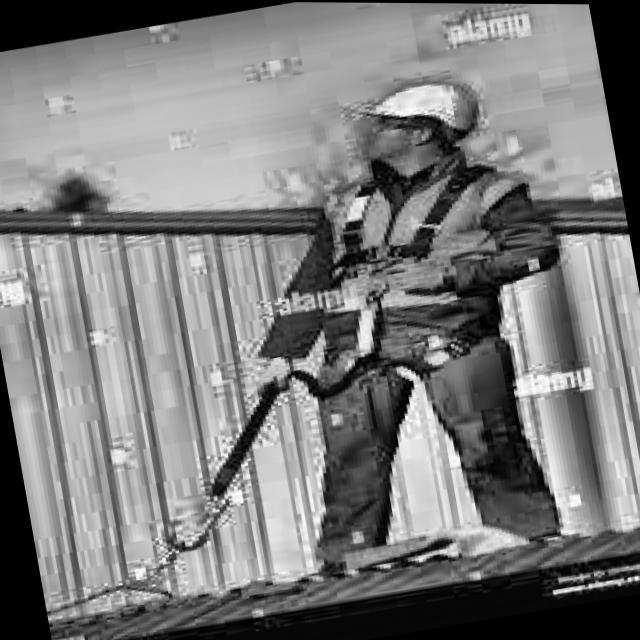belt: (262, 148, 541, 418)
